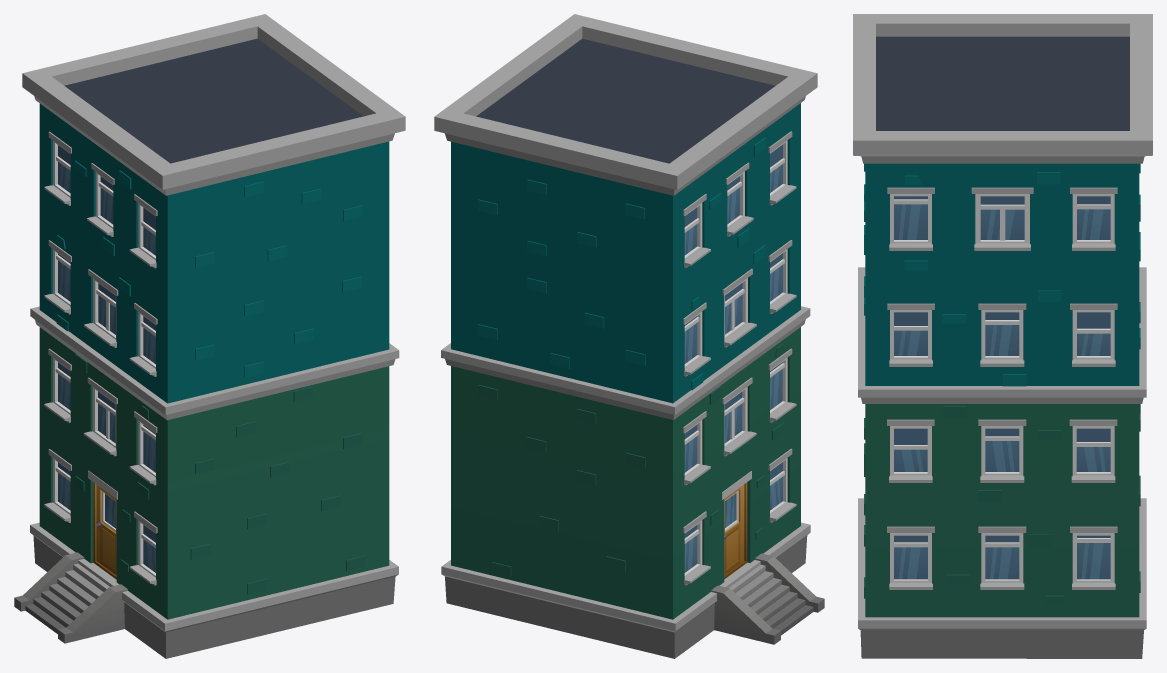
Rendered from Building_2_8_H.fbx.
3 renders of one model, left to right at view 1: azimuth 30°, elevation 25°; view 2: azimuth 150°, elevation 25°; view 3: azimuth 270°, elevation 25°, orthographic. The views are drawn at different scales.
Visible parts, largest first — view 1: Building_2_8_H; view 2: Building_2_8_H; view 3: Building_2_8_H.
Boxes of the visible parts, <box> form: Building_2_8_H: <box>14,14,405,658</box>; Building_2_8_H: <box>434,14,824,658</box>; Building_2_8_H: <box>853,14,1152,658</box>.
Size of the model in its own units: 754 by 1191 by 620.
